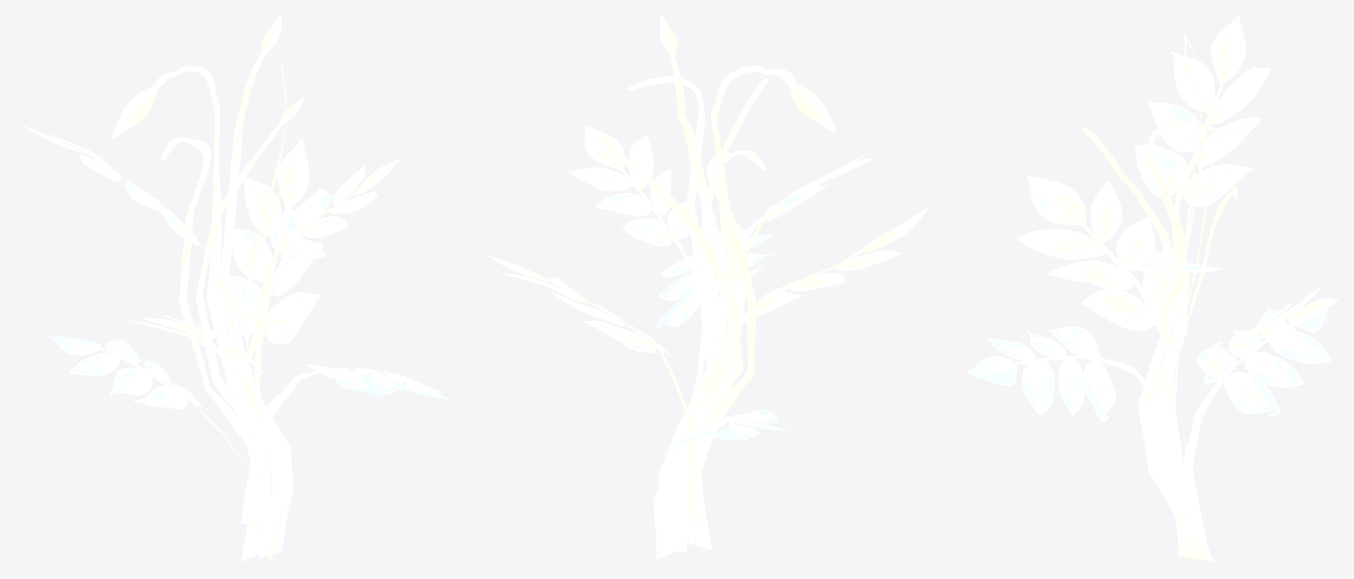
3 views of the same model, side by side, from view 1: azimuth 30°, elevation 25°; view 2: azimuth 150°, elevation 25°; view 3: azimuth 270°, elevation 25° (orthographic). The views are drawn at different scales.
Parts seen in each view (by area): view 1: SM_Potato_Plant_01v3_LOD0; view 2: SM_Potato_Plant_01v3_LOD0; view 3: SM_Potato_Plant_01v3_LOD0.
Part boxes in pixels (x1=…): SM_Potato_Plant_01v3_LOD0: x1=15, y1=14, x2=449, y2=561; SM_Potato_Plant_01v3_LOD0: x1=483, y1=14, x2=930, y2=559; SM_Potato_Plant_01v3_LOD0: x1=967, y1=14, x2=1339, y2=561.
Bounding box in the file's own units: 0.6417 × 0.9453 × 0.6436.
1 material, 1 textured.
